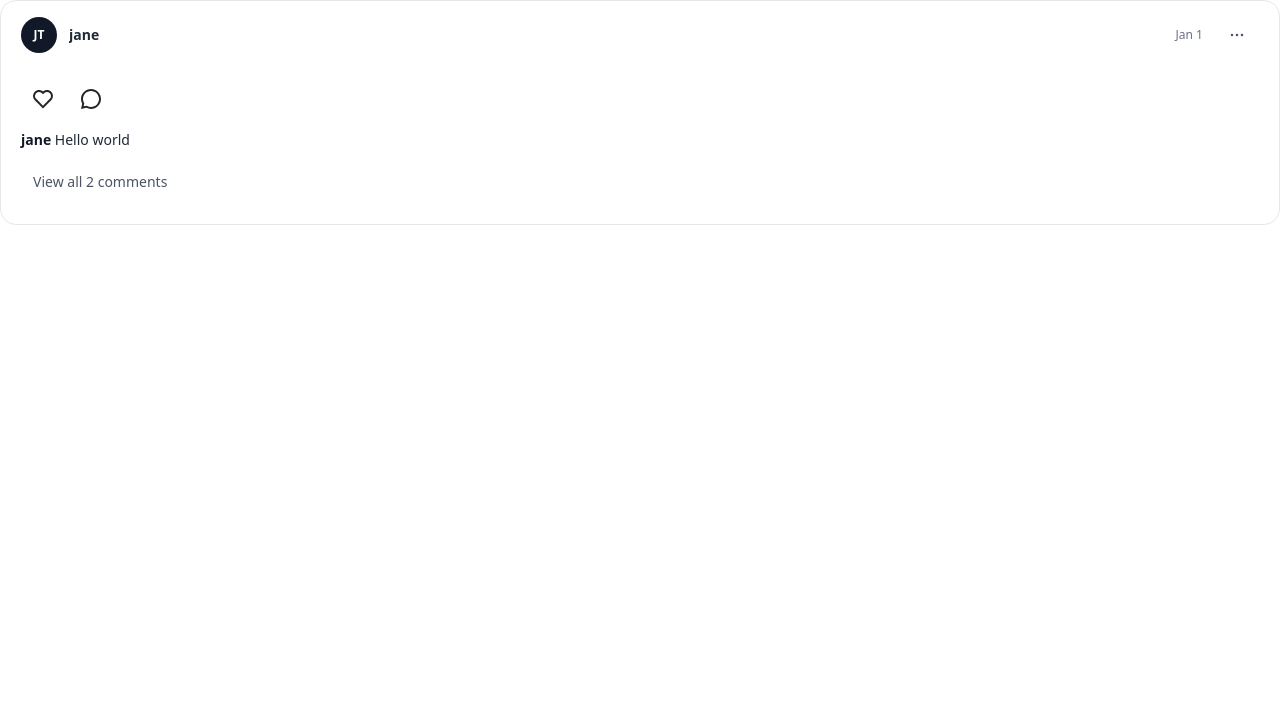
Scenario: PostCard › dismisses the menu and provides temporary clipboard feedback
This screenshot has width=1280, height=720.
Click the button named "More options" at point(1237, 35), box left=1215, top=13, right=1259, bottom=57
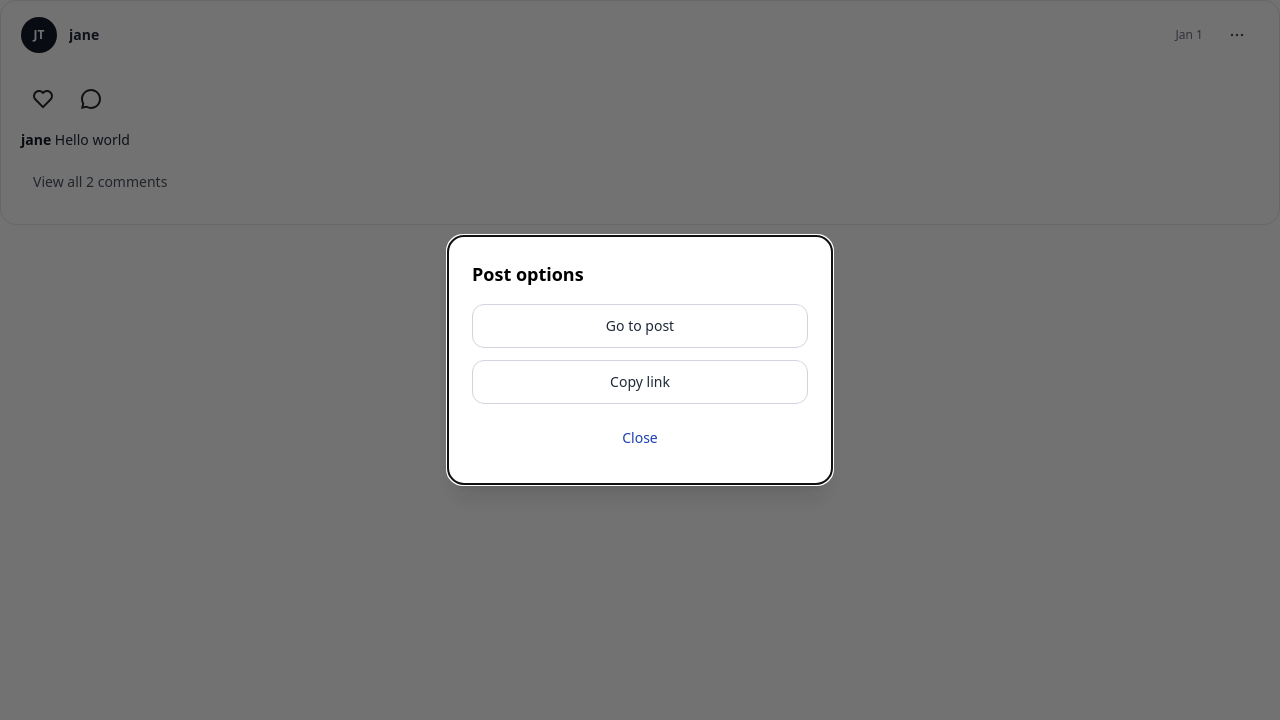
Expected: the dialog "Post options" is shown
Click the button "Copy link" at point(640, 382), box left=472, top=360, right=808, bottom=404
Wait 1200 ms
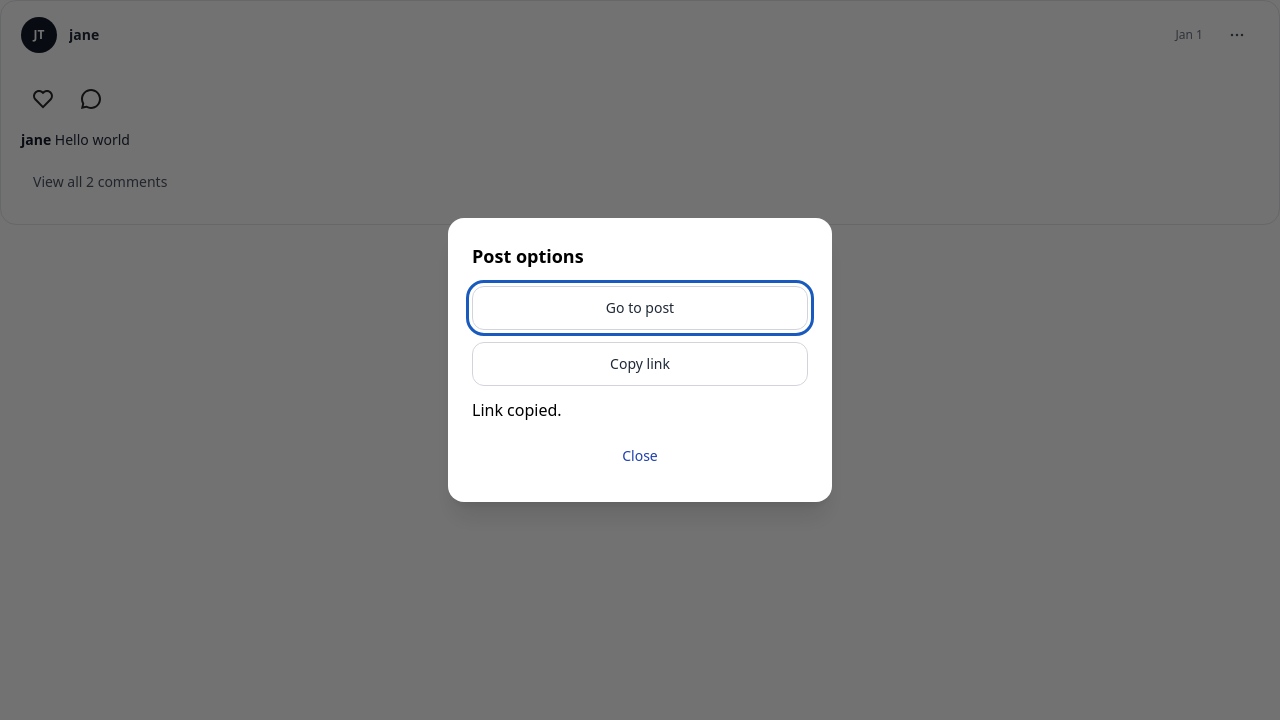
Expected: the button "Copy link" is shown, left=472, top=342, right=808, bottom=386
Expected: the message "Link copied." is shown, left=472, top=399, right=562, bottom=421
Click the button "Close" at point(640, 456), box left=472, top=434, right=808, bottom=478
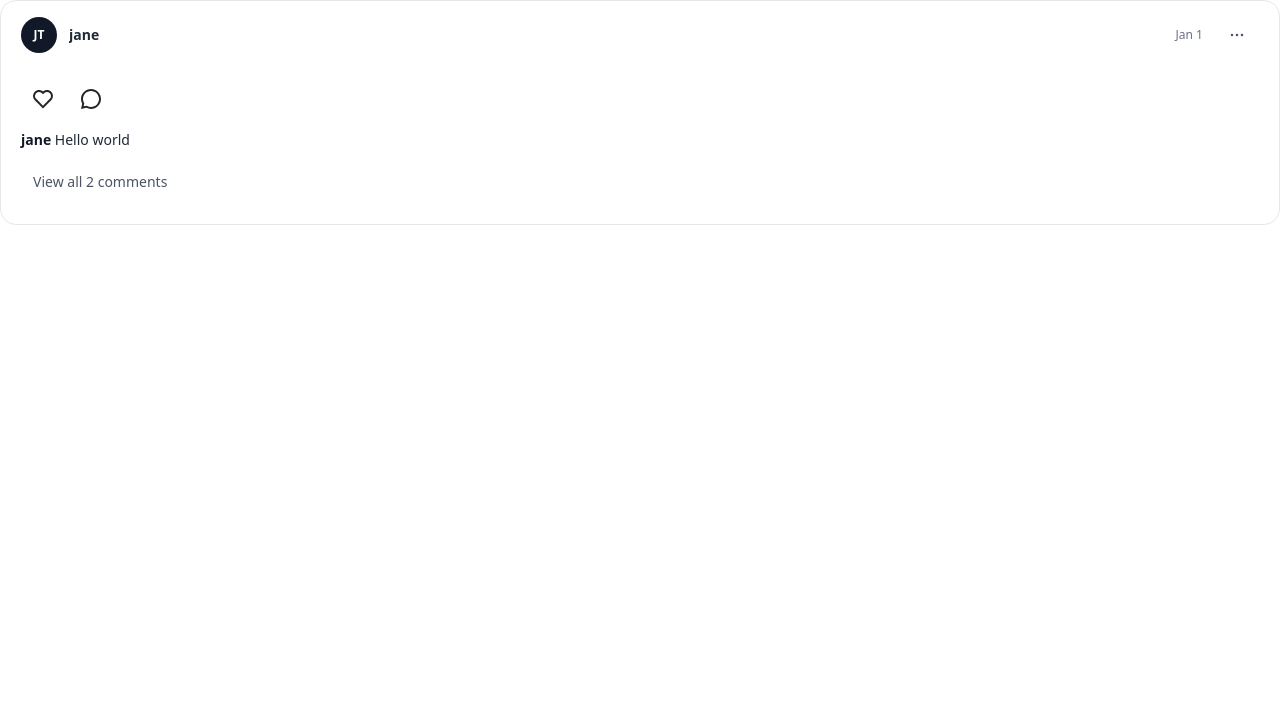
Expected: the heading "Post options" is gone
